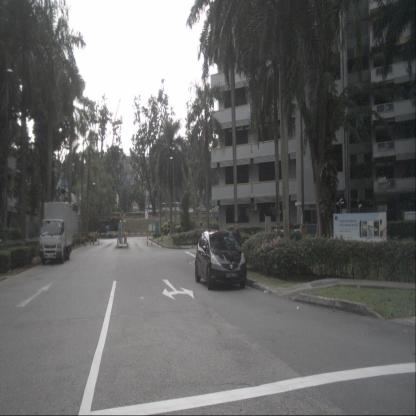human-pedestrian-adult: (230, 220, 242, 274)
vehicle-bus-rigid: (159, 202, 184, 213)
vehicle-car: (194, 230, 248, 291)
vehicle-truck: (38, 201, 73, 264)
